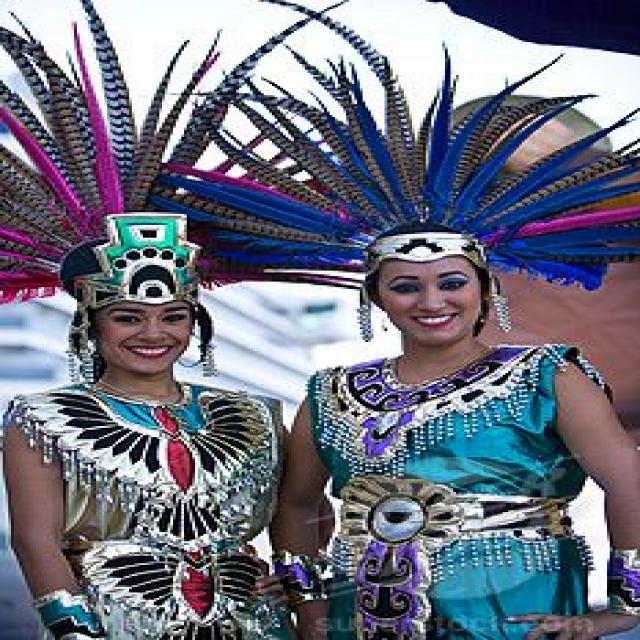Phasianus Colchicus: (200, 115, 345, 215), (51, 66, 103, 205)
